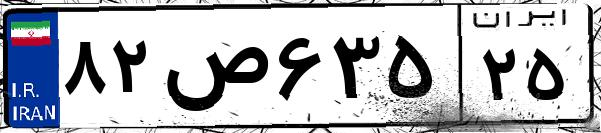2: (475, 38, 525, 113), (110, 28, 158, 98)
3: (330, 28, 385, 110)
5: (385, 28, 445, 110), (525, 38, 570, 115)
6: (270, 28, 330, 110)
8: (57, 26, 110, 100)
ص: (158, 20, 270, 120)
